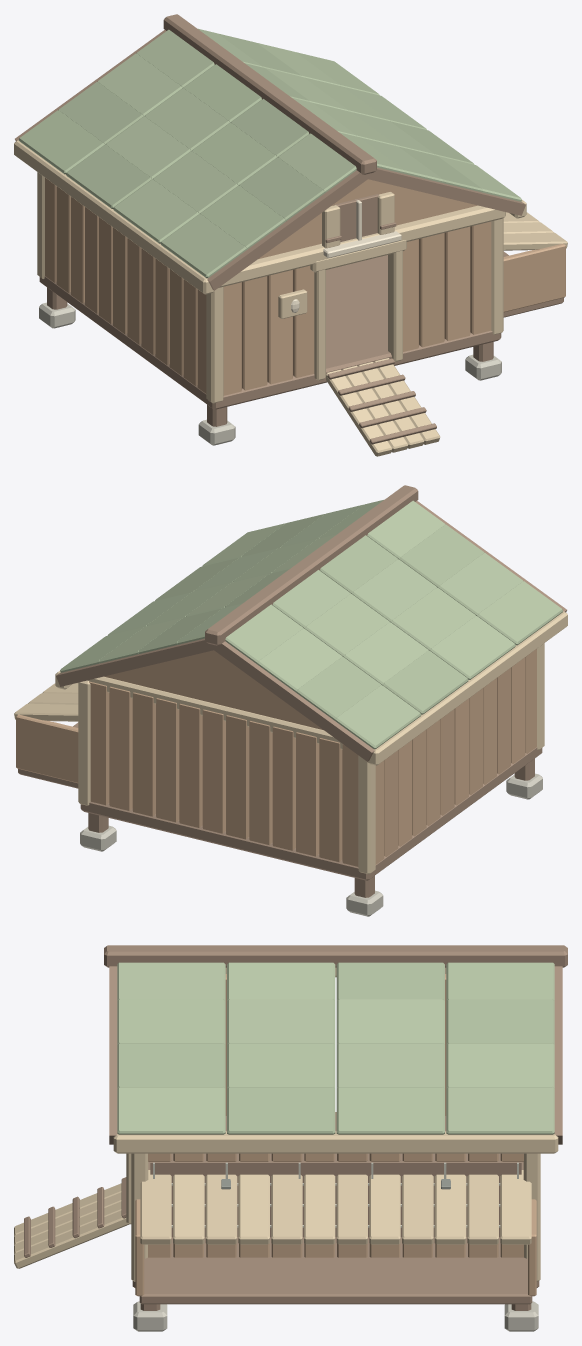
Rendered from crafted-coop-2-ready.glb.
3 renders of one model, top to bottom at view 1: azimuth 30°, elevation 25°; view 2: azimuth 150°, elevation 25°; view 3: azimuth 270°, elevation 25°, orthographic. The views are drawn at different scales.
Visible parts, largest first — view 1: floor, ridge-cap, header-1, eave-fascia, nest-cheek-1, gable-1, siding-54, roof-tile-3, roof-tile, roof-tile-2, roof-tile-1, siding-49 (+64 smaller); view 2: gable, floor, ridge-cap, eave-fascia, nest-cheek, roof-tile, roof-tile-1, roof-tile-2, roof-tile-3, siding-6, siding-3, siding-1 (+56 smaller); view 3: nest-floor, eave-fascia-1, ridge-cap, vent-dark-interior, roof-tile-28, roof-tile-31, roof-tile-29, roof-tile-30, roof-tile-20, roof-tile-23, roof-tile-24, roof-tile-25 (+33 smaller).
Part boxes in pixels (box(x1,y1,x2,y2)): floor: box(39, 255, 501, 409); ridge-cap: box(163, 14, 376, 174); header-1: box(219, 205, 505, 287); eave-fascia: box(14, 140, 214, 294); nest-cheek-1: box(503, 243, 565, 312); gable-1: box(258, 179, 477, 259); siding-54: box(444, 226, 470, 340); roof-tile-3: box(161, 214, 247, 278); roof-tile: box(19, 110, 104, 174); roof-tile-2: box(113, 179, 199, 243); roof-tile-1: box(66, 145, 151, 208); siding-49: box(242, 276, 267, 390); gable: box(104, 650, 323, 730); floor: box(80, 747, 542, 880); ridge-cap: box(205, 485, 418, 645); eave-fascia: box(367, 611, 567, 765); nest-cheek: box(16, 714, 78, 783); roof-tile: box(335, 685, 421, 749); roof-tile-1: box(382, 650, 468, 714); roof-tile-2: box(430, 616, 515, 679); roof-tile-3: box(477, 581, 562, 645); siding-6: box(202, 709, 225, 833); siding-3: box(272, 726, 295, 850); siding-1: box(319, 738, 342, 861); nest-floor: box(139, 1252, 532, 1304); eave-fascia-1: box(113, 1131, 558, 1153); ridge-cap: box(104, 945, 567, 967); vent-dark-interior: box(150, 1161, 521, 1237); roof-tile-28: box(446, 1087, 554, 1134); roof-tile-31: box(117, 1087, 225, 1134); roof-tile-29: box(336, 1087, 444, 1134); roof-tile-30: box(227, 1087, 335, 1134); roof-tile-20: box(446, 999, 554, 1044); roof-tile-23: box(117, 999, 225, 1044); roof-tile-24: box(446, 1043, 554, 1088); roof-tile-25: box(336, 1043, 444, 1087).
Size of the model in its own units: 2.82 by 1.88 by 3.1.
